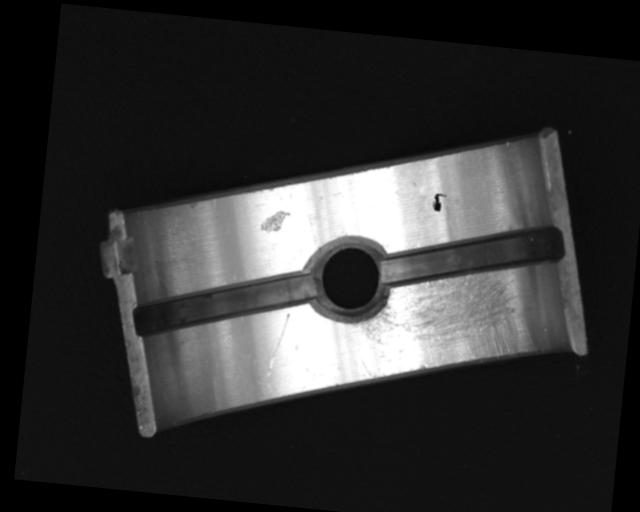blot: (430, 191, 447, 213)
bruise: (259, 208, 290, 236)
gap: (131, 254, 318, 352), (379, 209, 566, 305)
hole: (309, 232, 393, 323)
nick: (266, 311, 290, 377)
scratch: (349, 247, 542, 392)
